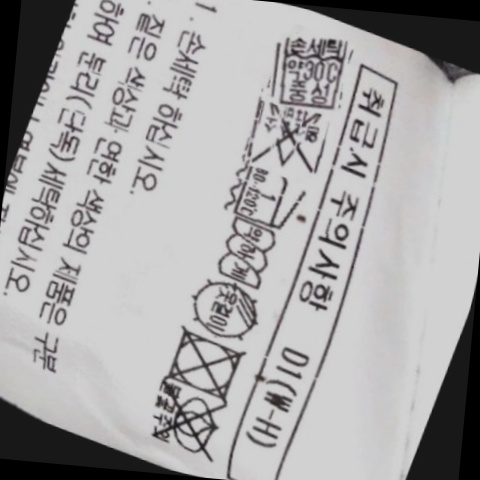DN_tumble_dry: (153, 320, 255, 406)
hand_wash: (262, 26, 359, 117)
iron_low: (225, 159, 308, 236)
line_dry_in_shade: (179, 271, 273, 348)
wring: (209, 213, 282, 294)
